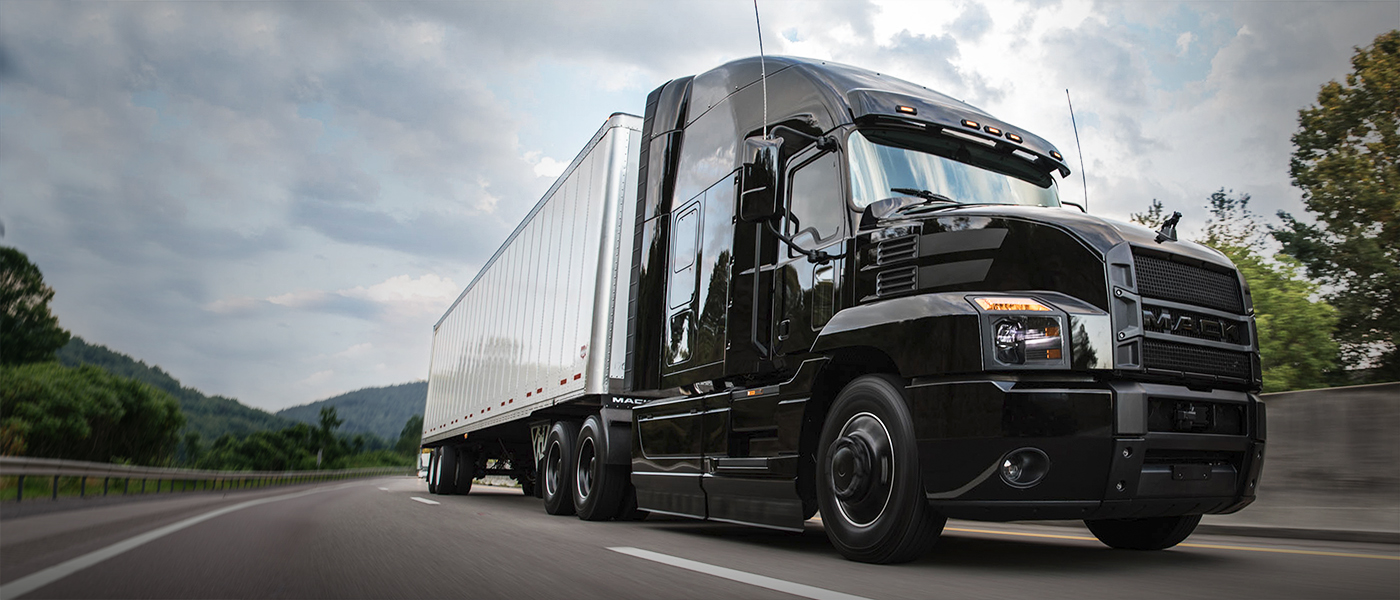truck: (419, 70, 1292, 539)
